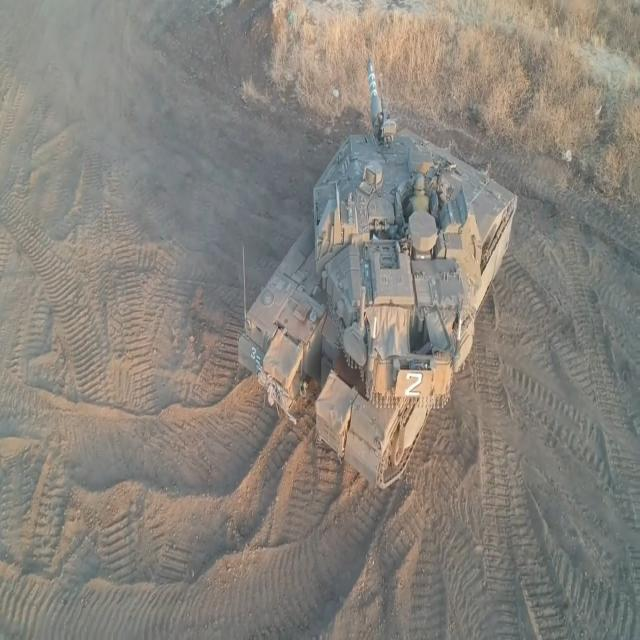tank: (241, 45, 527, 486)
